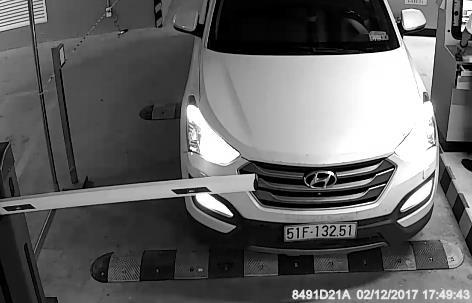License-plate: (279, 218, 364, 245)
